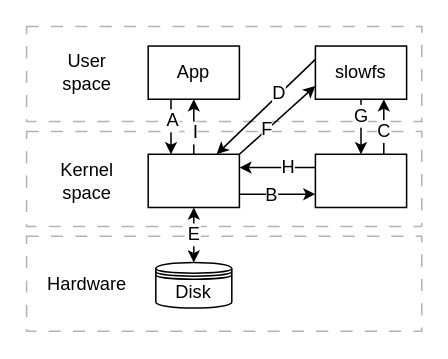
This 448x359 diagram has some shape labels left out. Each missing label, with the centre of its shape:
FUSE: the point at 360,180
VFS: the point at 193,180
